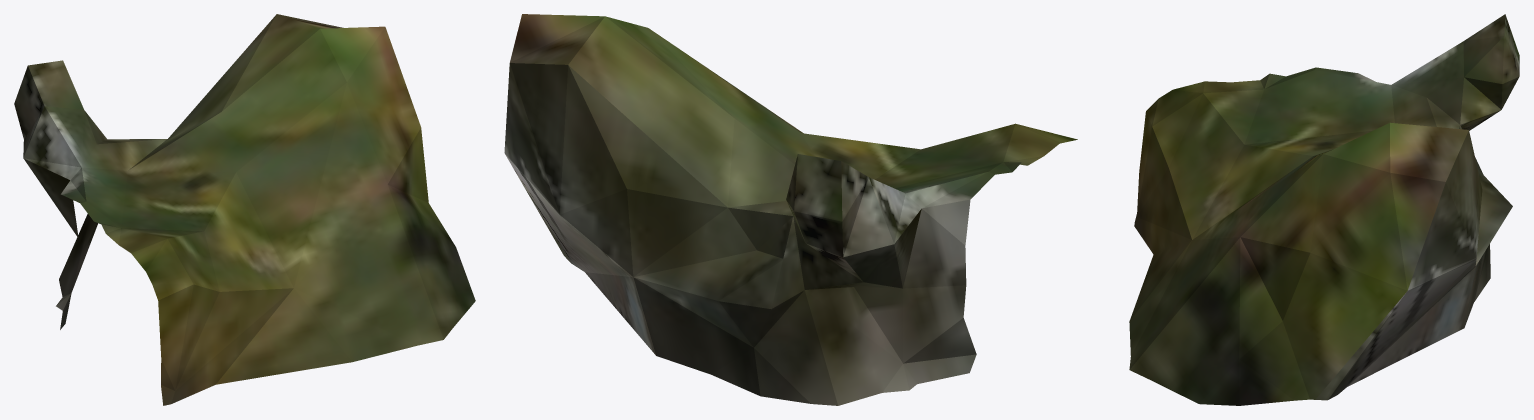
The picture shows the model from 3 angles, left to right: view 1: azimuth 30°, elevation 25°; view 2: azimuth 150°, elevation 25°; view 3: azimuth 270°, elevation 25°; orthographic projection. The views are drawn at different scales.
Bounding box in the file's own units: 0.2499 × 0.1554 × 0.2241.
Materials: 1 (1 with a texture image).
